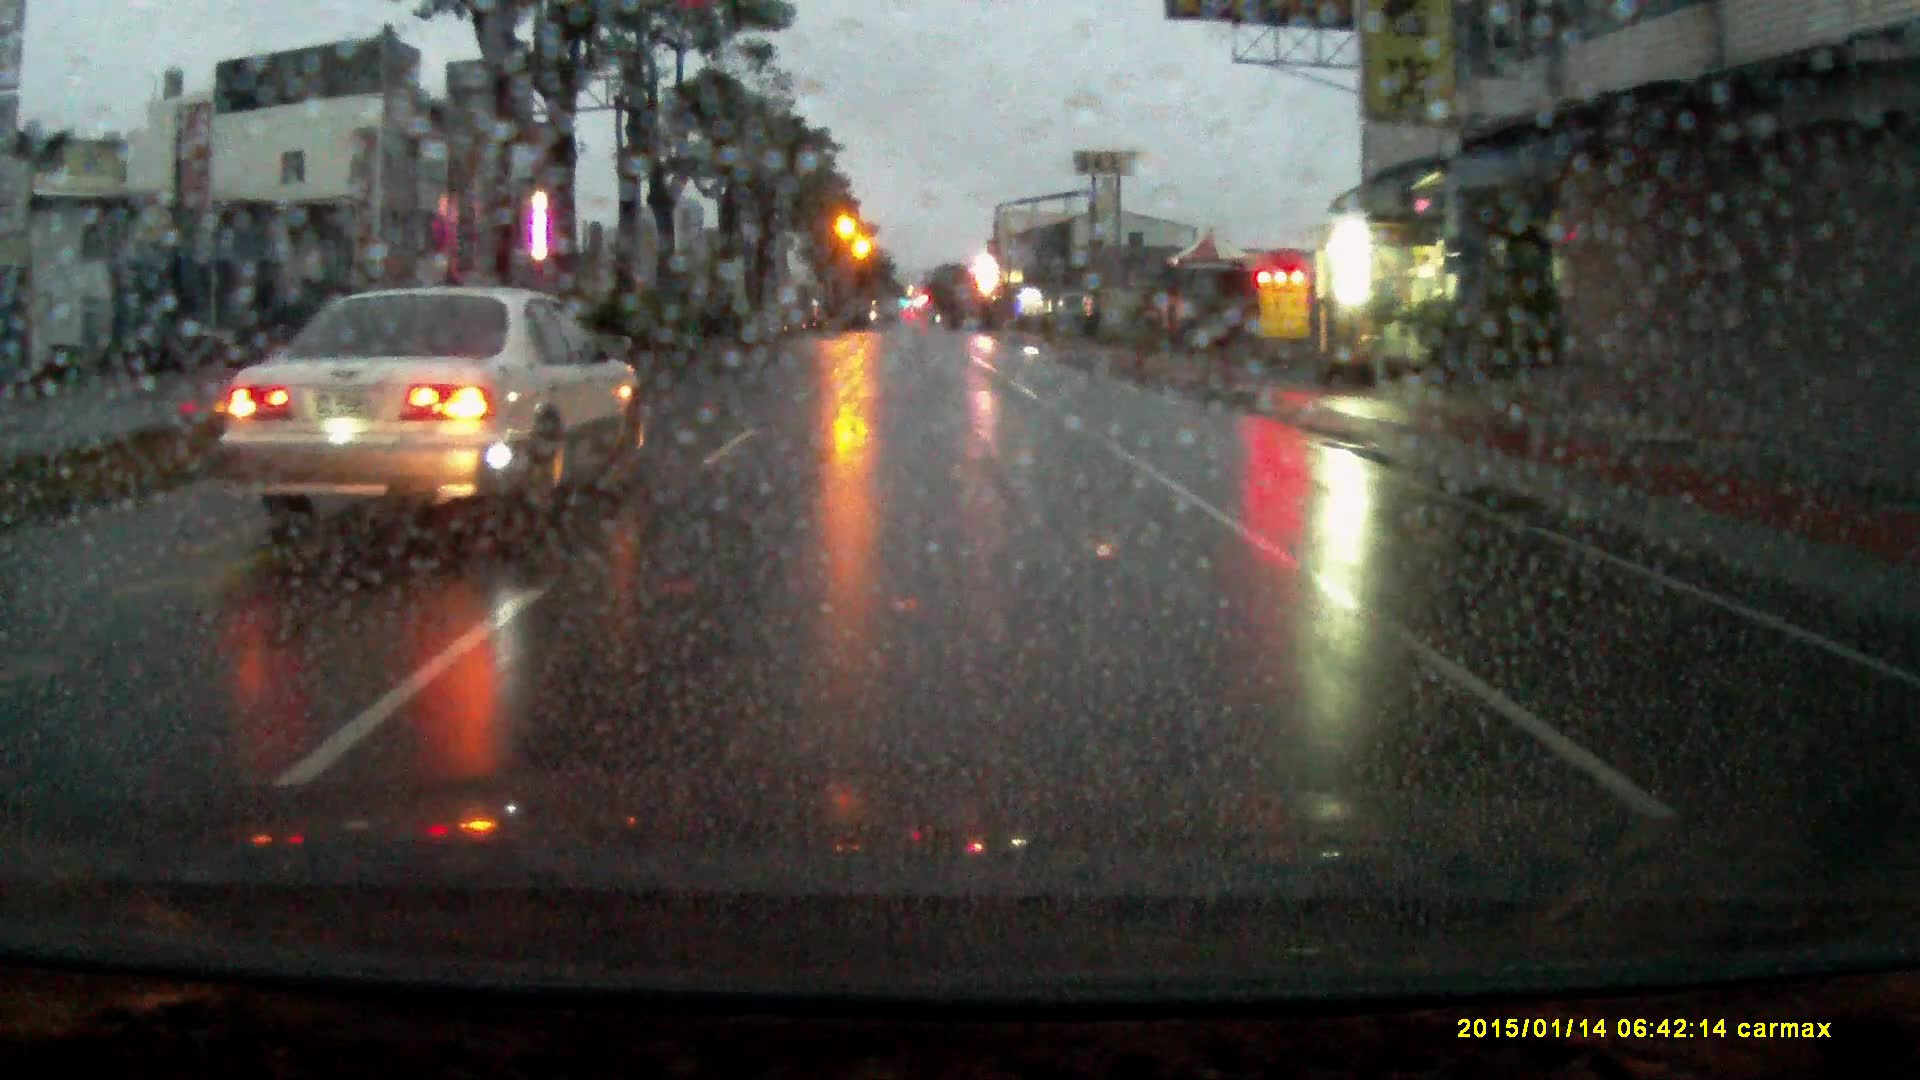vehicle: (214, 289, 650, 538)
